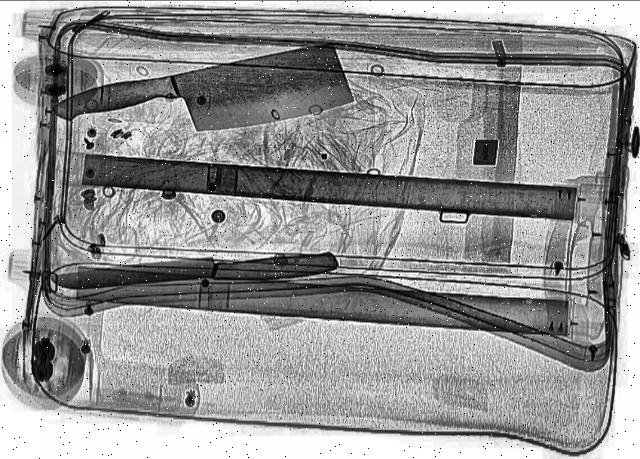Knife: (45, 45, 359, 145), (36, 248, 344, 294)
